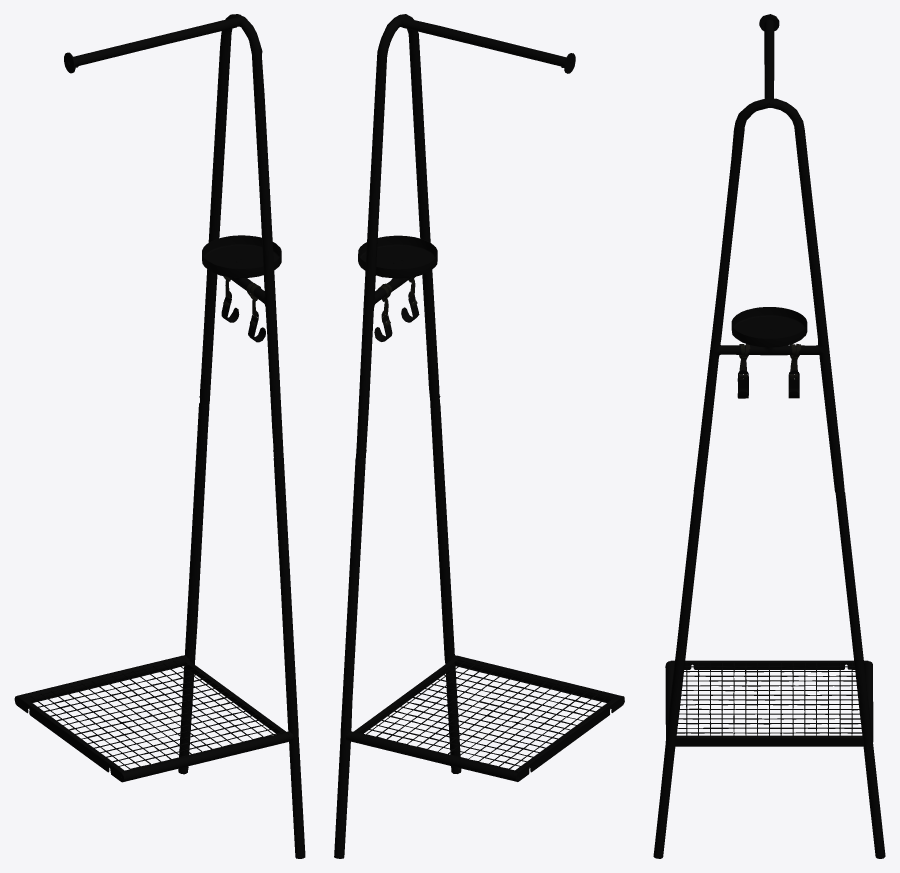
File: alganas_wieszak_na_ubrania_z_pok_na_buty_10585888.glb
3 renders of one model, left to right at view 1: azimuth 30°, elevation 25°; view 2: azimuth 150°, elevation 25°; view 3: azimuth 270°, elevation 25°, orthographic. The views are drawn at different scales.
Visible parts, largest first — view 1: alganas_wieszak_na_ubrania_z_pok_na_buty_10585888; view 2: alganas_wieszak_na_ubrania_z_pok_na_buty_10585888; view 3: alganas_wieszak_na_ubrania_z_pok_na_buty_10585888.
Boxes of the visible parts, bbox=[...] form: alganas_wieszak_na_ubrania_z_pok_na_buty_10585888: bbox=[14, 14, 305, 858]; alganas_wieszak_na_ubrania_z_pok_na_buty_10585888: bbox=[334, 14, 624, 858]; alganas_wieszak_na_ubrania_z_pok_na_buty_10585888: bbox=[653, 14, 885, 858].
Bounding box in the file's own units: 0.4513 × 1.67 × 0.4601.
Materials: 1 (1 with a texture image).
